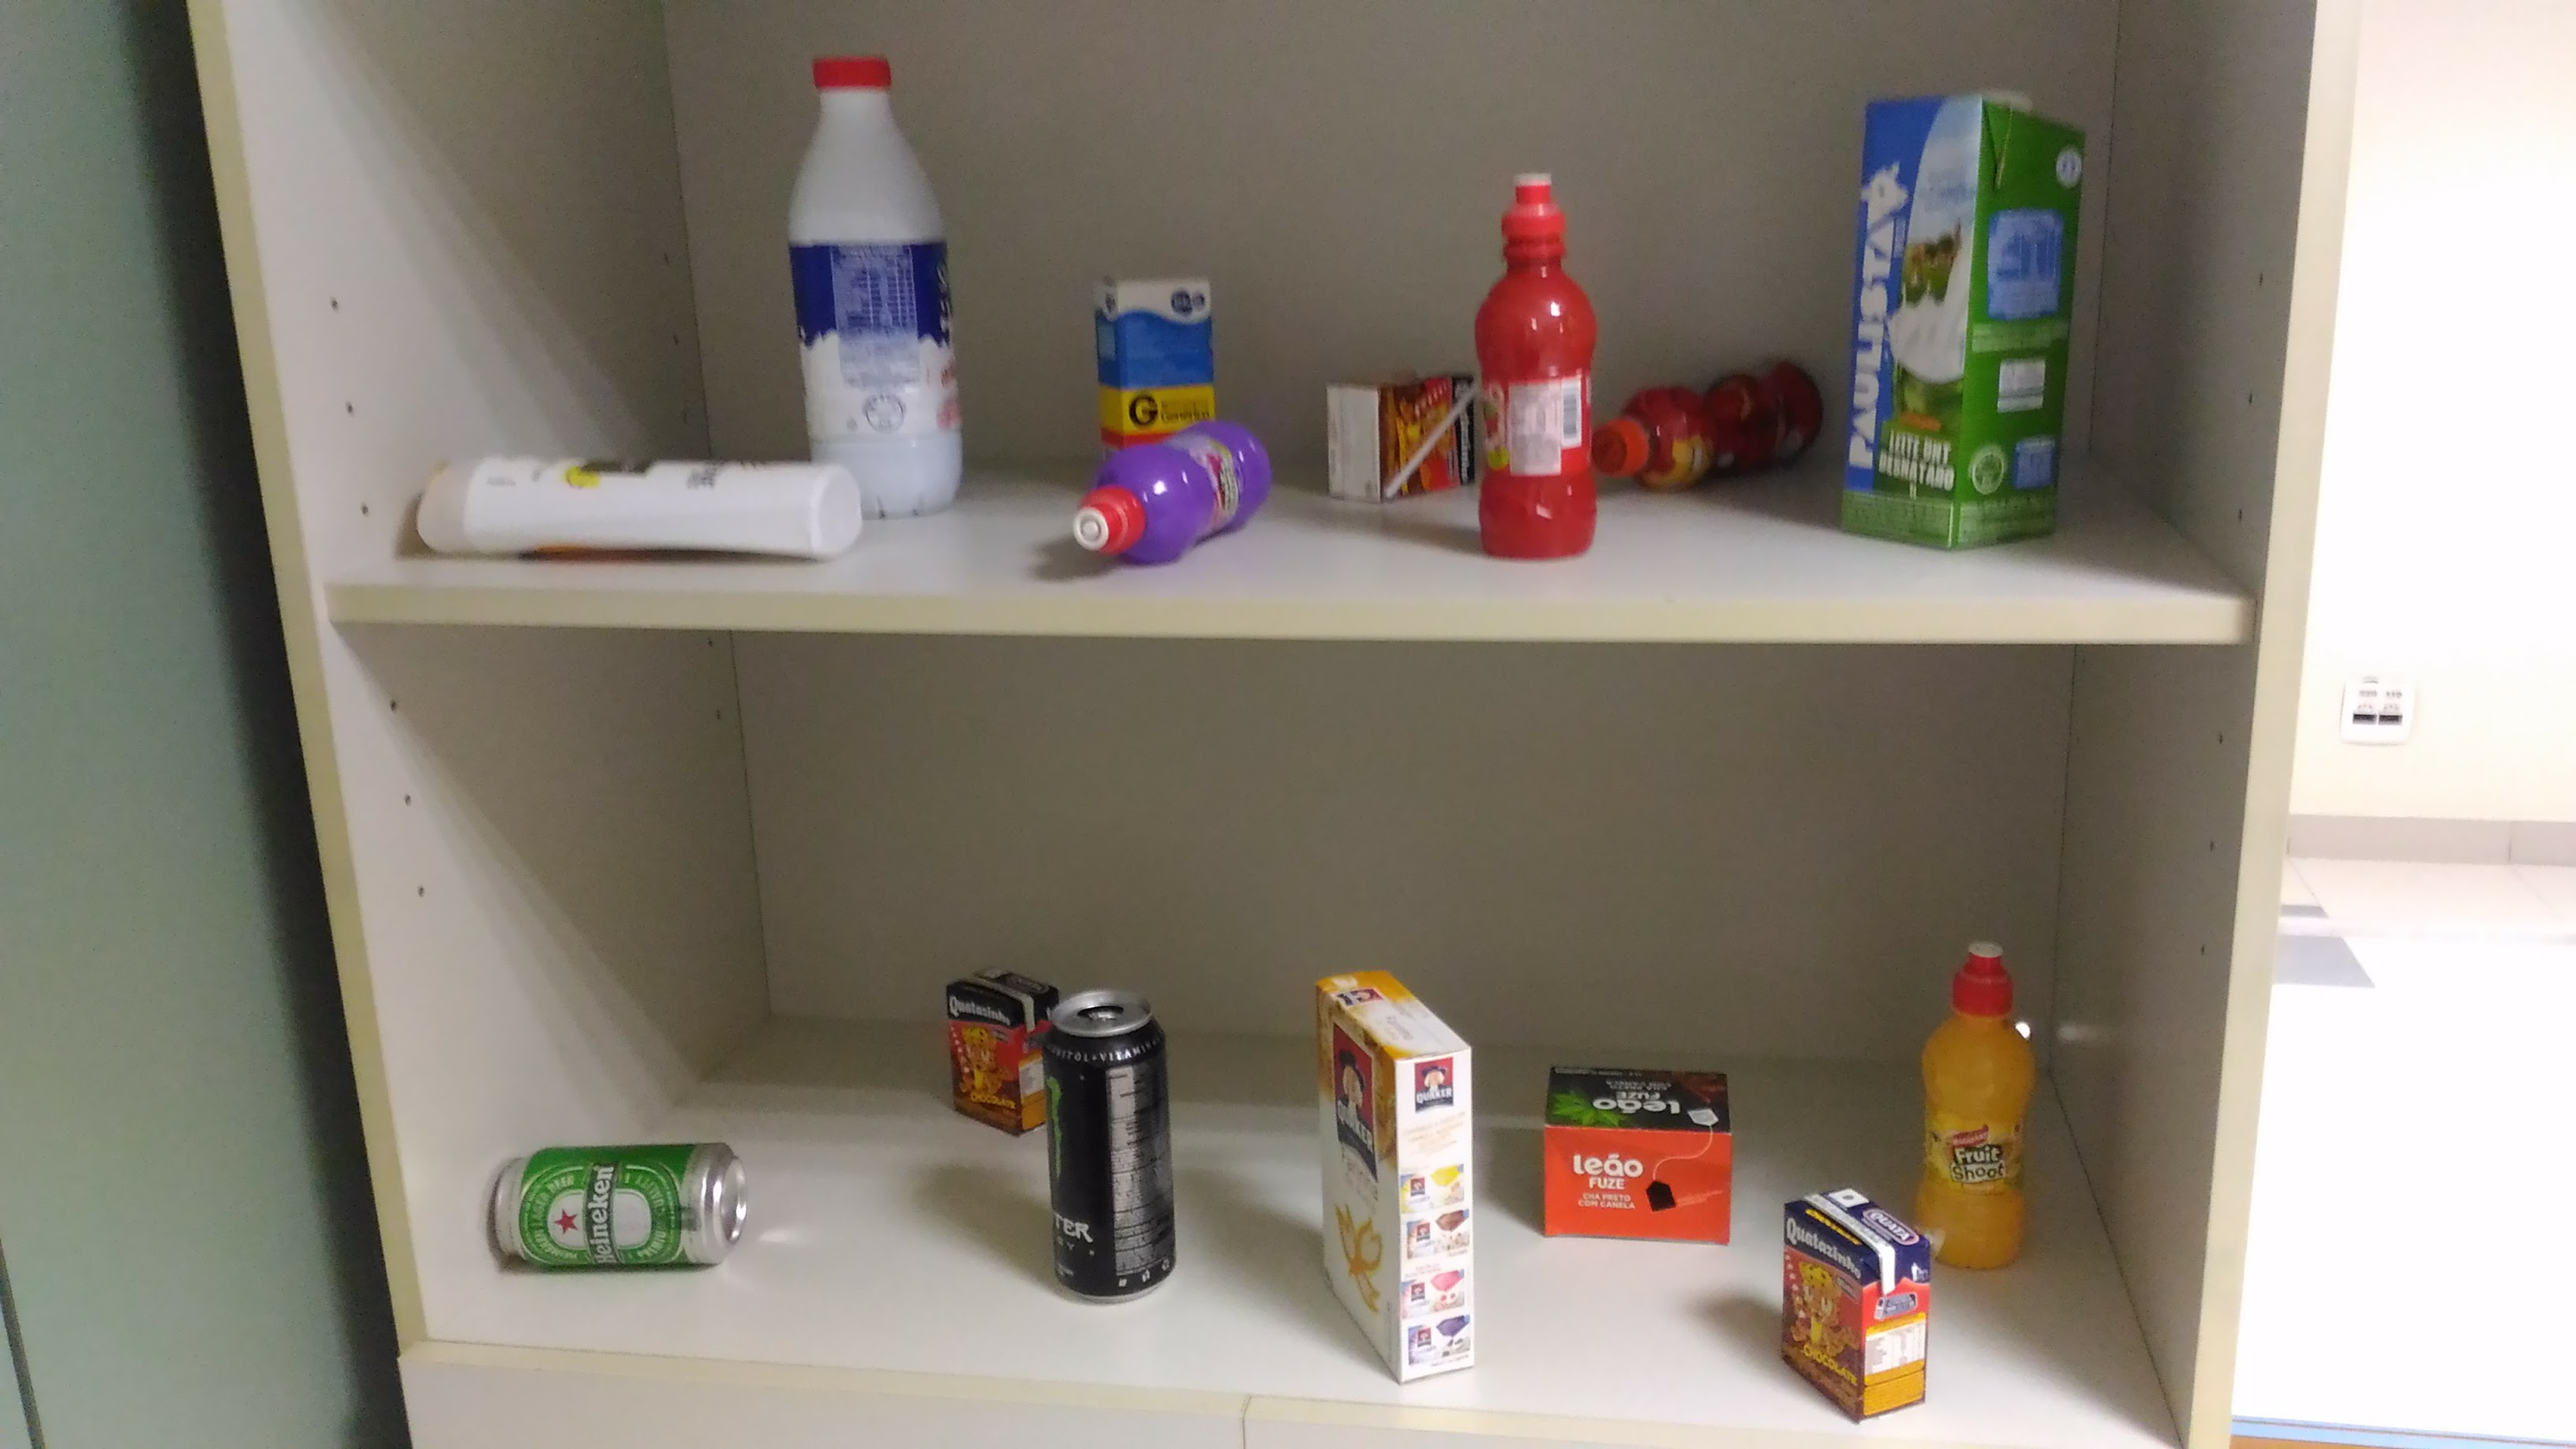cereal: (1301, 953, 1487, 1399)
chocolate_milk: (1771, 1178, 1941, 1435), (934, 953, 1061, 1143), (1317, 365, 1471, 507)
heineken: (477, 1135, 757, 1285)
iron_man: (1593, 350, 1826, 511)
medicine: (1088, 259, 1211, 452)
milk_bottle: (788, 38, 978, 527)
milk_box: (1830, 66, 2102, 567)
monster: (1041, 977, 1191, 1312)
purple_juice: (1073, 425, 1282, 575)
red_juice: (1467, 152, 1601, 575)
shampoo: (398, 456, 871, 571)
tea_box: (1526, 1044, 1747, 1261)
yellow_juice: (1913, 934, 2039, 1285)
